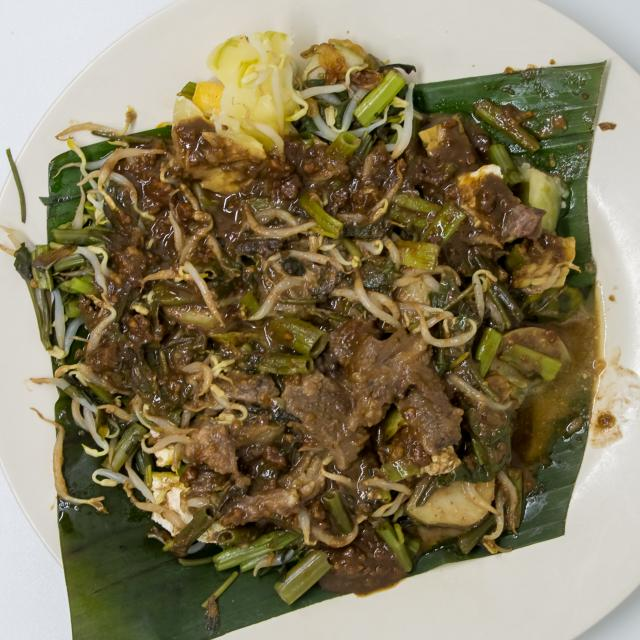Rujak-Cingur: (46, 17, 583, 593)
